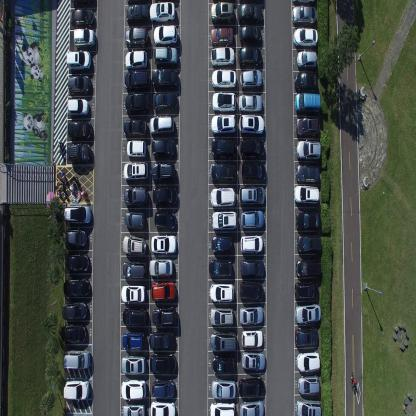car: (294, 209, 320, 234), (237, 184, 264, 208), (63, 377, 89, 401), (151, 67, 178, 90), (63, 276, 91, 298), (62, 349, 91, 370), (295, 233, 321, 256), (210, 186, 236, 209), (210, 137, 236, 160), (124, 92, 150, 115), (124, 69, 150, 92), (149, 352, 176, 374), (60, 323, 87, 345), (209, 161, 236, 183), (209, 330, 236, 352), (124, 25, 149, 48), (211, 377, 236, 400), (295, 116, 320, 139), (210, 44, 235, 67), (152, 234, 178, 256), (211, 209, 237, 231), (240, 160, 266, 182), (238, 138, 264, 160), (150, 161, 176, 183), (149, 114, 175, 136), (121, 378, 147, 400), (238, 376, 264, 398), (210, 112, 236, 134), (238, 113, 264, 135), (295, 92, 321, 114), (292, 27, 318, 49), (291, 4, 317, 26), (64, 204, 92, 224), (148, 329, 176, 349), (122, 330, 146, 353), (294, 325, 318, 348), (124, 160, 148, 183), (239, 279, 263, 302), (297, 138, 321, 161), (151, 280, 176, 302), (149, 256, 174, 278), (66, 49, 91, 71), (239, 304, 264, 326), (211, 68, 236, 90), (120, 354, 146, 375), (62, 301, 88, 322), (152, 185, 178, 206), (149, 2, 175, 23), (152, 91, 178, 112), (294, 303, 321, 323), (294, 258, 321, 278), (297, 374, 320, 397), (294, 185, 318, 207), (212, 92, 236, 114), (210, 0, 234, 22), (122, 234, 146, 256), (65, 252, 90, 273), (240, 257, 265, 278), (209, 282, 235, 302), (120, 284, 146, 304), (64, 226, 86, 249), (124, 186, 148, 207), (242, 350, 266, 371), (151, 378, 175, 399), (208, 258, 232, 279), (238, 46, 262, 67), (238, 1, 262, 22), (122, 306, 146, 327), (67, 119, 92, 139), (153, 46, 178, 66), (211, 354, 236, 374), (293, 72, 318, 92), (121, 261, 147, 280), (151, 307, 177, 326), (73, 26, 95, 48), (240, 68, 262, 90), (68, 141, 91, 162), (154, 25, 177, 46), (294, 280, 318, 300), (240, 209, 264, 229), (70, 7, 94, 27), (152, 138, 176, 158), (240, 233, 264, 253), (67, 75, 92, 94), (295, 164, 320, 183), (238, 94, 263, 113), (150, 398, 176, 416), (296, 398, 322, 416), (212, 235, 234, 256), (296, 48, 317, 70), (240, 328, 263, 348), (210, 306, 233, 326), (296, 352, 320, 371), (123, 118, 147, 137), (126, 139, 147, 160), (154, 209, 176, 229), (67, 97, 89, 117), (125, 48, 147, 68), (239, 24, 261, 44), (210, 25, 233, 44), (126, 4, 148, 23), (209, 400, 235, 416), (125, 210, 145, 230), (240, 400, 264, 415), (122, 402, 145, 415), (70, 0, 94, 6), (290, 0, 316, 5)
